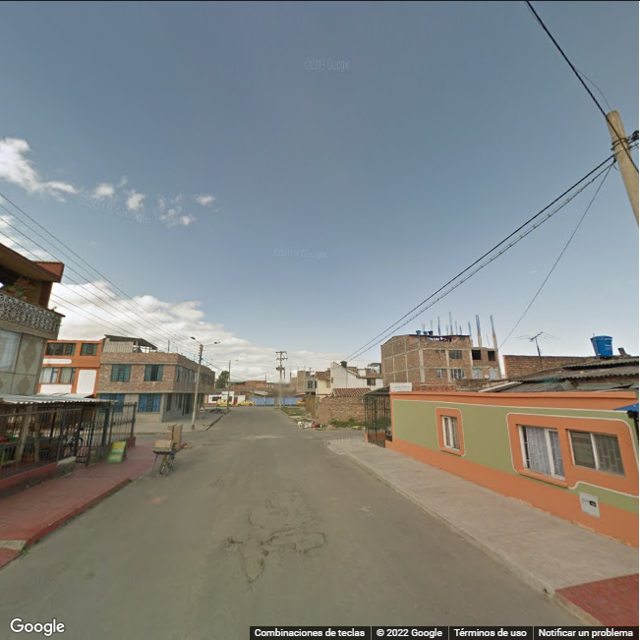D00: (235, 535, 252, 601), (302, 530, 330, 558)
D10: (266, 539, 302, 546)
